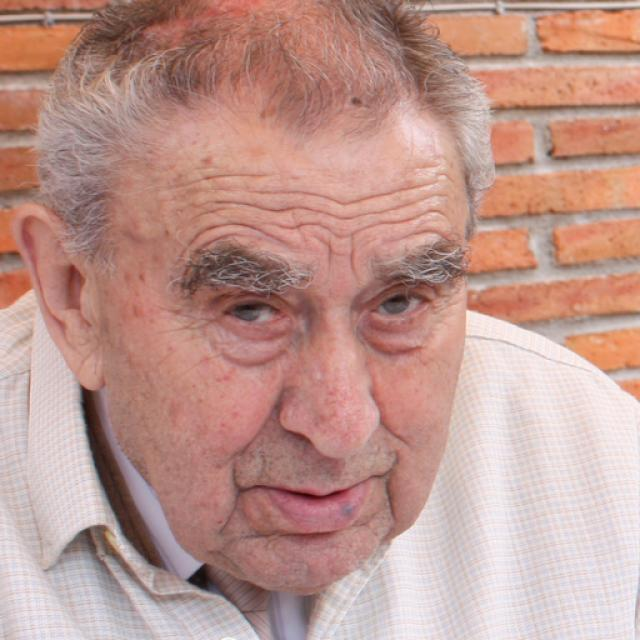Wrinkle: (211, 189, 451, 224), (266, 206, 449, 238), (253, 178, 437, 206), (177, 218, 288, 262), (374, 413, 417, 453), (185, 167, 269, 187), (213, 489, 245, 540), (388, 221, 454, 244), (345, 235, 363, 285)
